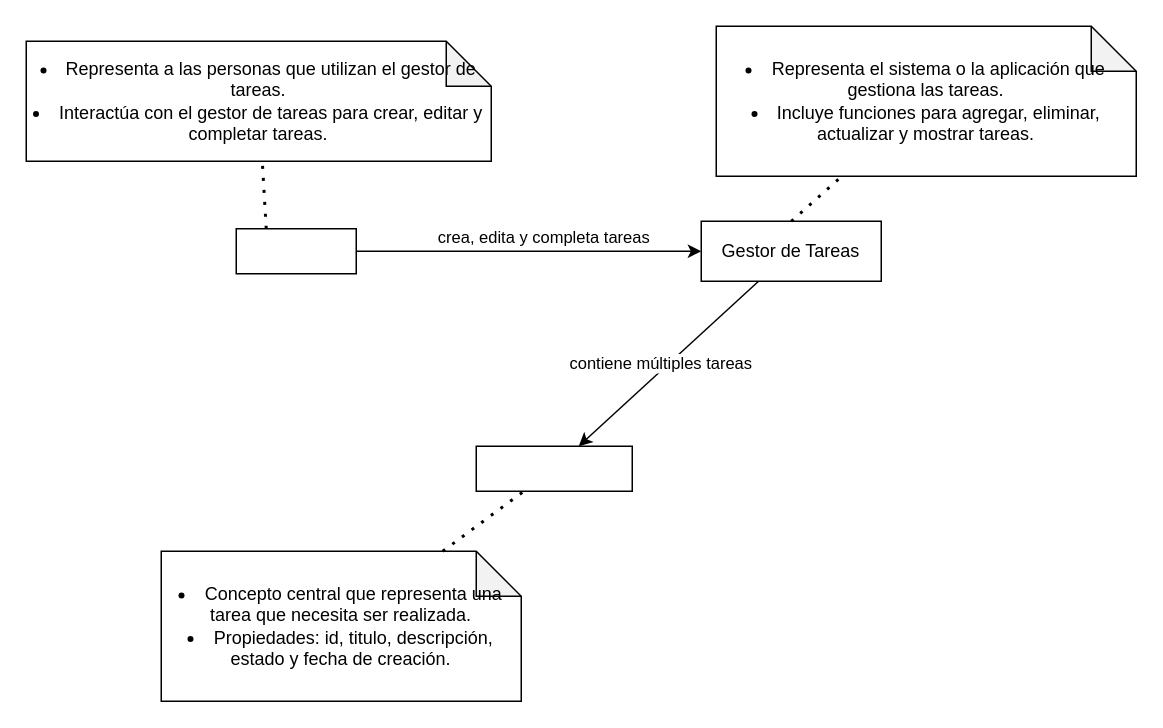
Some shapes in this 1163 by 728 pixel diagram are drawn without their labels. Each missing label, with the centre of its shape:
"Tarea" belongs at pixel 553 468.
"Usuario" belongs at pixel 295 250.
